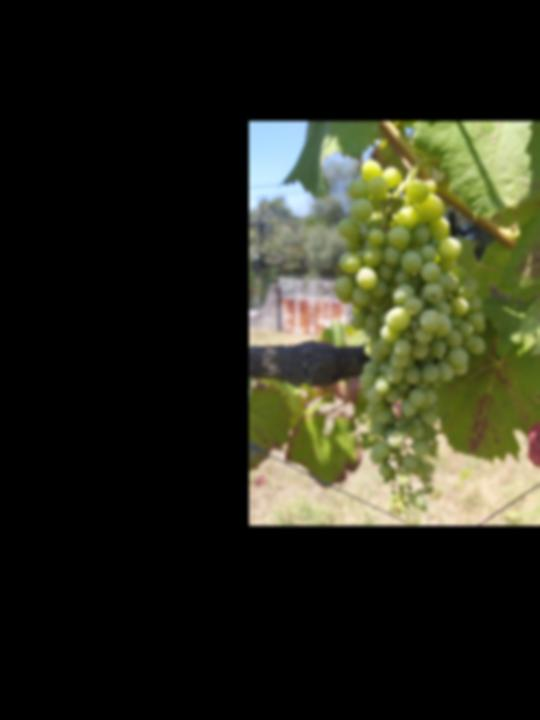grape: (334, 159, 487, 519)
